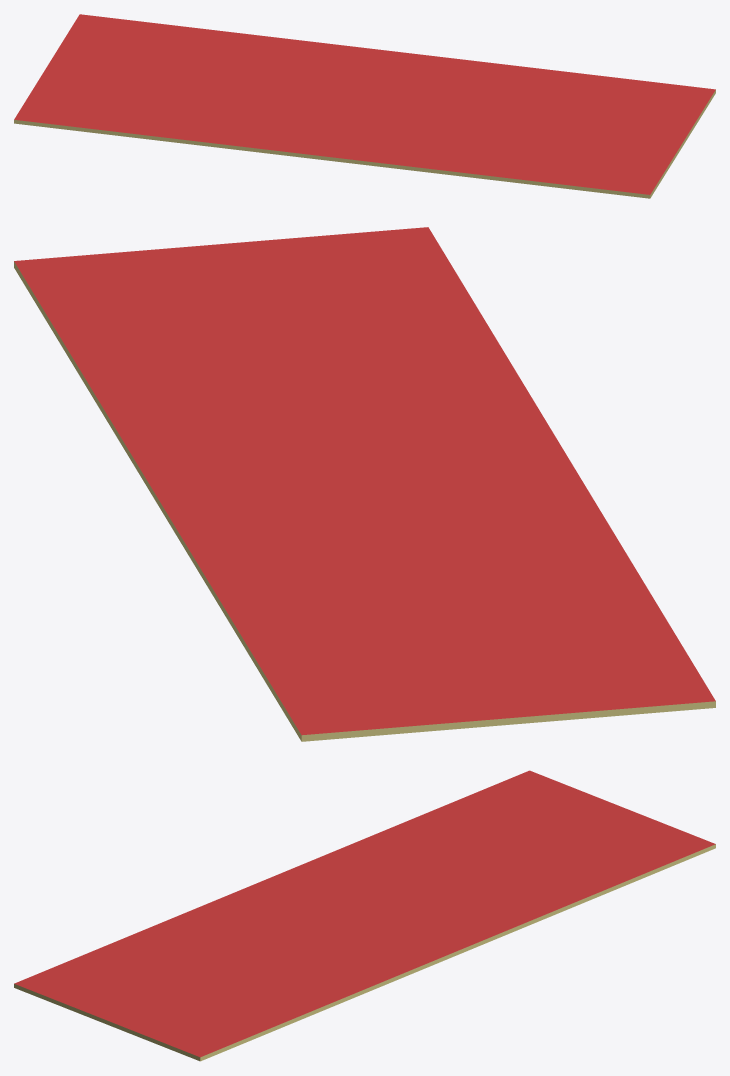
3 renders of one model, top to bottom at view 1: azimuth 30°, elevation 25°; view 2: azimuth 150°, elevation 25°; view 3: azimuth 270°, elevation 25°, orthographic. The views are drawn at different scales.
Parts seen in each view (by area): view 1: group_3, group_4; view 2: group_3, group_4; view 3: group_3, group_4.
Part boxes in pixels (bbox=[...]): group_3: bbox=[14, 14, 715, 194]; group_4: bbox=[14, 90, 715, 198]; group_3: bbox=[14, 227, 715, 735]; group_4: bbox=[14, 261, 715, 741]; group_3: bbox=[14, 770, 715, 1057]; group_4: bbox=[14, 844, 715, 1061].
Size of the model in its own units: 15.27 by 15.42 by 0.265.
